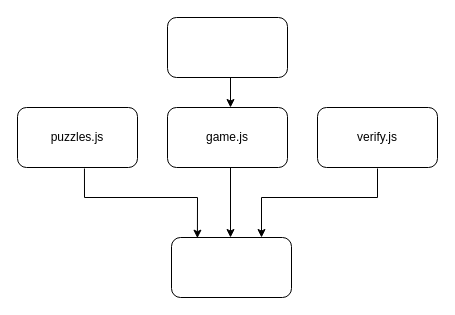
This 455x315 diagram has some shape labels left out. Here are the shapes that lost their labels. From the top down, the box of each, then its label:
(166, 16, 288, 78): display.js
(170, 236, 292, 298): main.js
